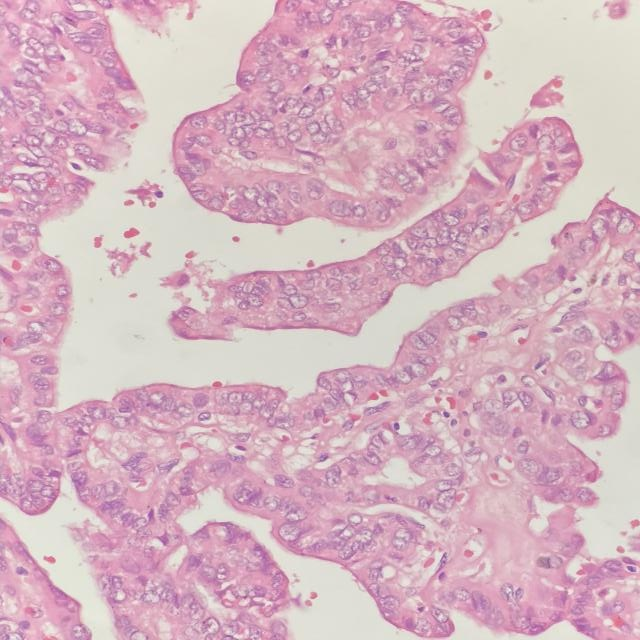TC: (430, 486, 463, 512), (327, 196, 355, 222), (427, 127, 461, 147), (147, 388, 178, 409), (365, 193, 390, 219), (283, 505, 317, 523), (284, 291, 316, 310), (268, 473, 300, 492), (395, 434, 424, 454), (343, 510, 372, 530), (107, 412, 133, 433), (331, 369, 358, 388), (430, 97, 458, 115), (376, 251, 402, 270), (225, 387, 247, 409), (161, 487, 183, 509), (443, 313, 467, 333), (245, 292, 271, 310), (263, 397, 285, 418), (264, 178, 286, 199), (321, 277, 345, 296), (408, 361, 432, 379), (187, 409, 214, 425), (379, 136, 403, 154), (228, 428, 254, 444), (338, 415, 361, 431), (441, 463, 464, 477)
